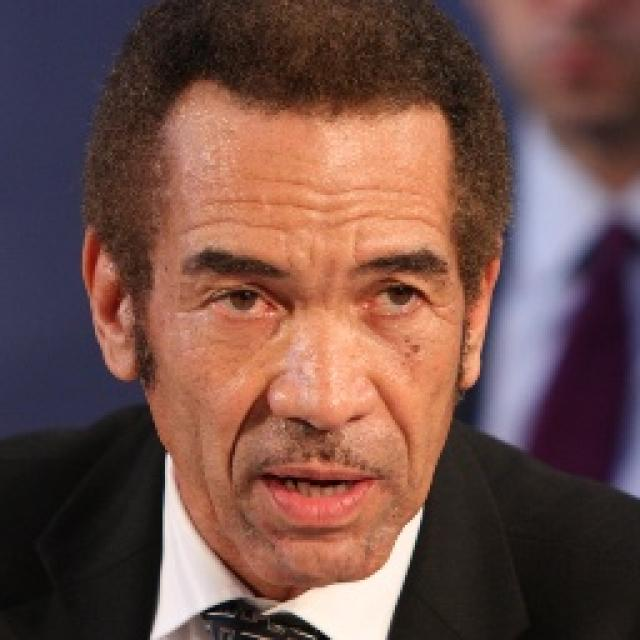earlobe: (96, 342, 146, 386), (456, 359, 485, 392)
eye: (360, 279, 430, 315), (209, 285, 278, 320)
nose: (270, 410, 375, 452)
wholeear: (82, 220, 144, 387), (456, 231, 501, 394)
